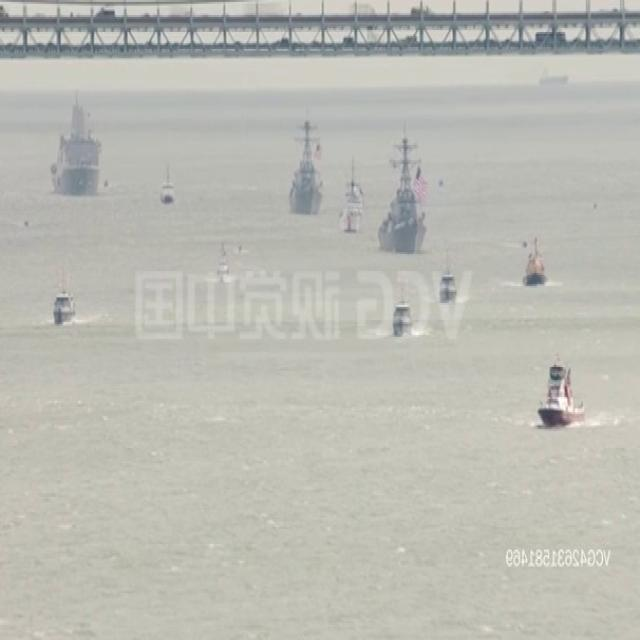houseboat: (540, 358, 585, 425), (339, 163, 367, 234), (526, 233, 548, 286), (392, 292, 414, 337), (438, 255, 458, 300), (160, 162, 176, 204), (215, 243, 230, 283)
navalvessels: (378, 123, 431, 250), (51, 92, 103, 186), (290, 107, 324, 208)
